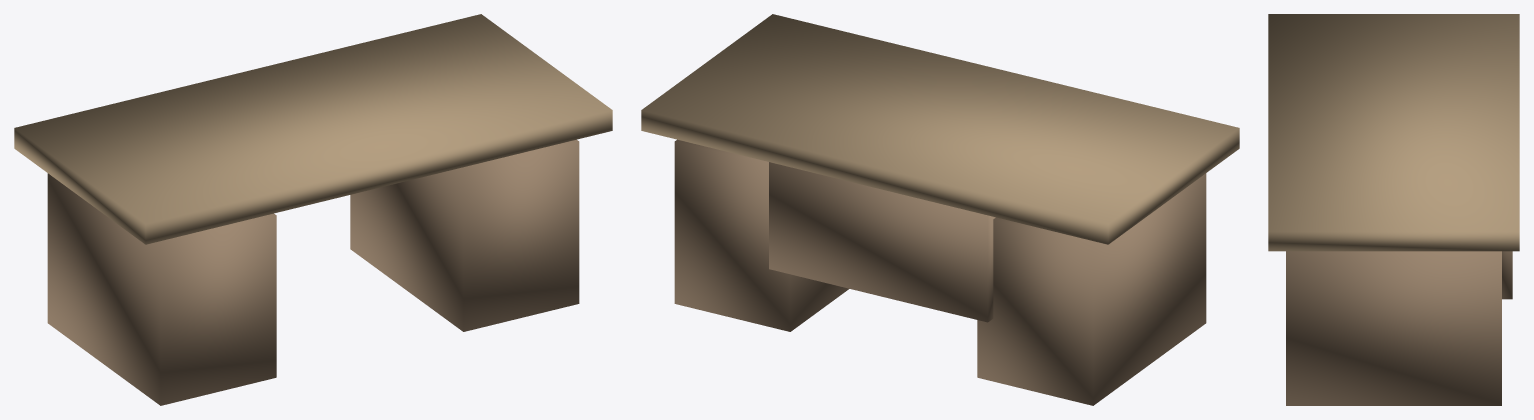
File: office_desk__squat.glb
3 views of the same model, side by side, from view 1: azimuth 30°, elevation 25°; view 2: azimuth 150°, elevation 25°; view 3: azimuth 270°, elevation 25° (orthographic). The views are drawn at different scales.
Visible parts, largest first — view 1: world; view 2: world; view 3: world.
Part boxes in pixels (x1=…): world: x1=14, y1=14, x2=612, y2=405; world: x1=641, y1=14, x2=1239, y2=405; world: x1=1268, y1=14, x2=1519, y2=405.
Bounding box in the file's own units: 1.6 × 0.6342 × 0.7776.
